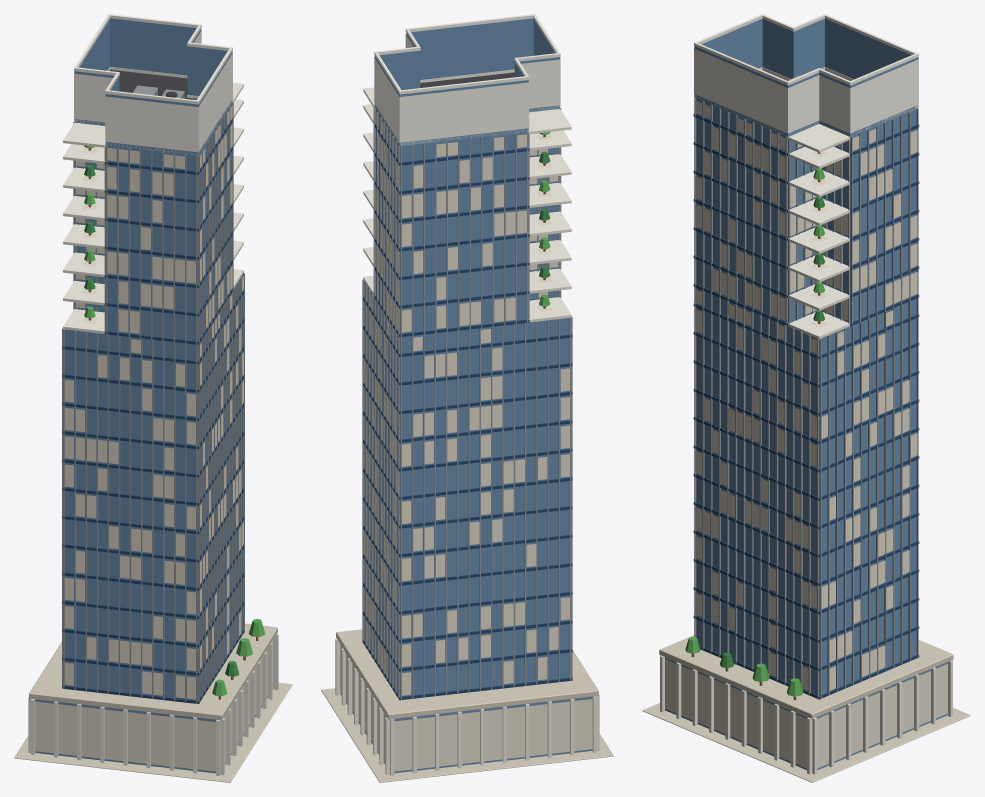
File: park-tower.glb
3 views of the same model, side by side, from view 1: azimuth 30°, elevation 25°; view 2: azimuth 150°, elevation 25°; view 3: azimuth 270°, elevation 25° (orthographic).
Visible parts, largest first — view 1: park-tower_body, park-tower_night_glow; view 2: park-tower_body, park-tower_night_glow; view 3: park-tower_body, park-tower_night_glow.
Boxes of the visible parts, box(x1,y1,x2,y2) form: park-tower_body: box(14, 14, 292, 782); park-tower_night_glow: box(35, 30, 273, 771); park-tower_body: box(321, 14, 613, 782); park-tower_night_glow: box(340, 34, 592, 771); park-tower_body: box(642, 14, 970, 782); park-tower_night_glow: box(665, 48, 947, 768).
Size of the model in its own units: 81.88 by 183 by 81.88.
